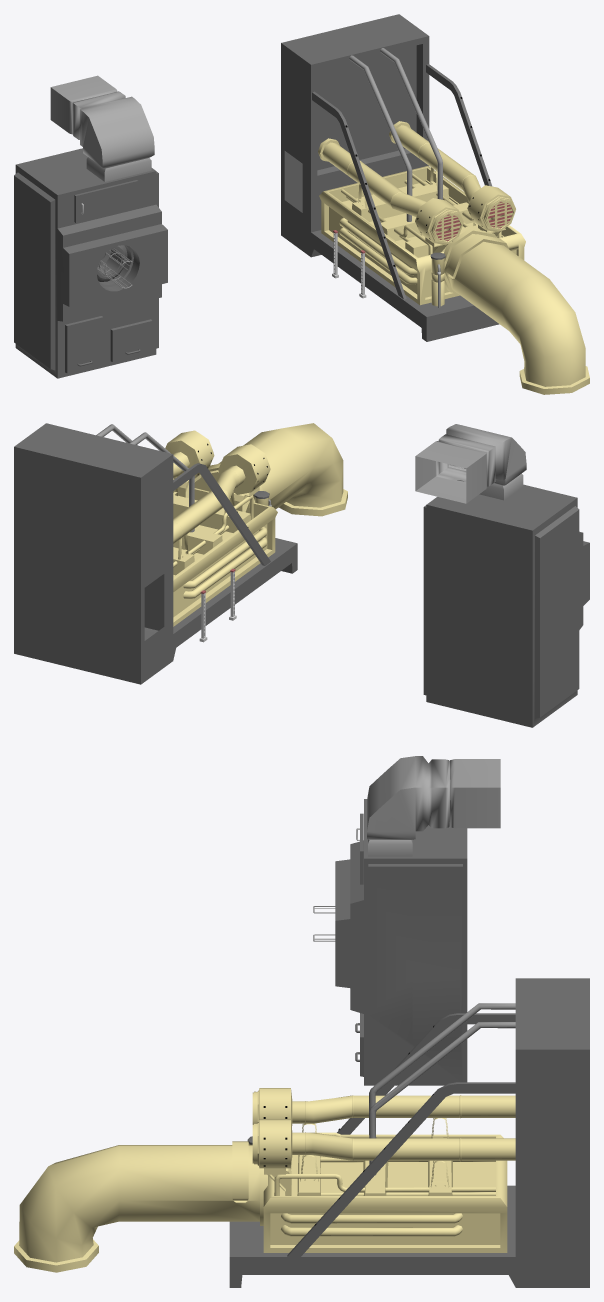
The model's file is apparatus variant.fbx.
3 views of the same model, one above another, from view 1: azimuth 30°, elevation 25°; view 2: azimuth 150°, elevation 25°; view 3: azimuth 270°, elevation 25° (orthographic). The views are drawn at different scales.
Parts seen in each view (by area): view 1: BigSocket.002, BigSocket.001; view 2: BigSocket.002, BigSocket.001; view 3: BigSocket.002, BigSocket.001.
Part boxes in pixels (x1=…): BigSocket.002: x1=281, y1=14, x2=589, y2=394; BigSocket.001: x1=14, y1=75, x2=167, y2=378; BigSocket.002: x1=14, y1=423, x2=347, y2=684; BigSocket.001: x1=415, y1=424, x2=589, y2=727; BigSocket.002: x1=14, y1=978, x2=589, y2=1287; BigSocket.001: x1=335, y1=756, x2=500, y2=1085.
Bounding box in the file's own units: 1034 × 549 × 953.
